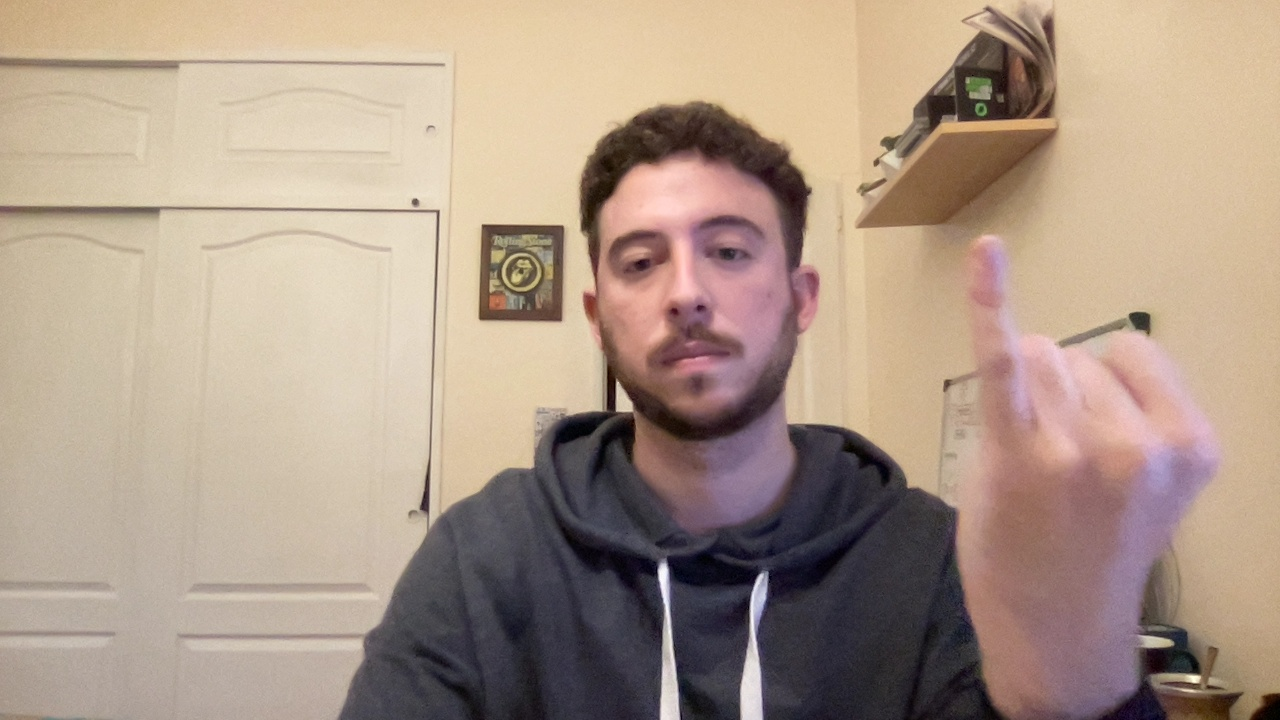menique: (929, 221, 1251, 640)
